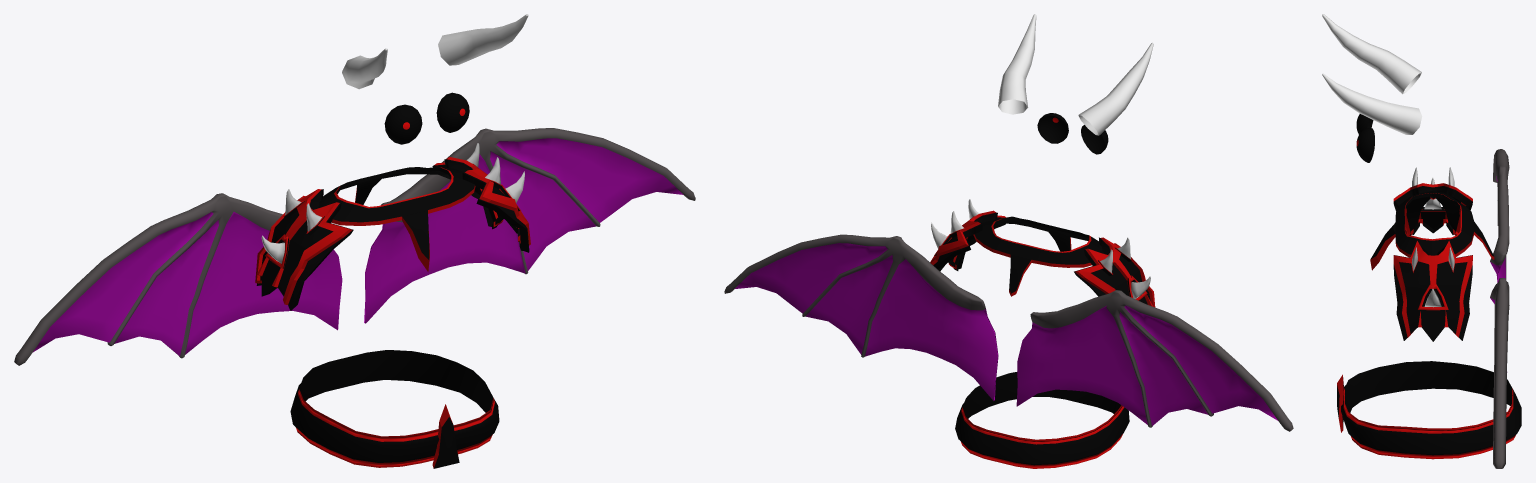
File: devil.fbx
3 views of the same model, side by side, from view 1: azimuth 30°, elevation 25°; view 2: azimuth 150°, elevation 25°; view 3: azimuth 270°, elevation 25° (orthographic). The views are drawn at different scales.
Parts seen in each view (by area): view 1: devil_kanat, kemer, polySurface33, govde, ilk_boynuz, polySurface29, gozz, goz, kemer_parca; view 2: devil_kanat, kemer, ilk_boynuz, govde, polySurface33, polySurface29, goz; view 3: kemer, polySurface29, devil_kanat, ilk_boynuz, polySurface33, govde, goz, kemer_parca, gozz.
Boxes of the visible parts, x1=… form: devil_kanat: x1=14, y1=128, x2=695, y2=365; kemer: x1=290, y1=350, x2=499, y2=467; polySurface33: x1=255, y1=189, x2=353, y2=310; govde: x1=314, y1=167, x2=475, y2=271; ilk_boynuz: x1=342, y1=14, x2=528, y2=89; polySurface29: x1=432, y1=143, x2=530, y2=252; gozz: x1=384, y1=104, x2=422, y2=144; goz: x1=436, y1=92, x2=469, y2=132; kemer_parca: x1=432, y1=404, x2=459, y2=468; devil_kanat: x1=724, y1=234, x2=1293, y2=431; kemer: x1=955, y1=372, x2=1129, y2=468; ilk_boynuz: x1=998, y1=14, x2=1153, y2=135; govde: x1=973, y1=216, x2=1107, y2=296; polySurface33: x1=1074, y1=237, x2=1155, y2=307; polySurface29: x1=930, y1=199, x2=1005, y2=271; goz: x1=1037, y1=113, x2=1068, y2=143; kemer: x1=1341, y1=361, x2=1521, y2=459; polySurface29: x1=1393, y1=239, x2=1472, y2=341; devil_kanat: x1=1490, y1=149, x2=1509, y2=468; ilk_boynuz: x1=1322, y1=14, x2=1422, y2=134; polySurface33: x1=1393, y1=167, x2=1472, y2=235; govde: x1=1370, y1=191, x2=1494, y2=270; goz: x1=1356, y1=128, x2=1374, y2=162; kemer_parca: x1=1337, y1=374, x2=1343, y2=432; gozz: x1=1356, y1=114, x2=1373, y2=134.
Bounding box in the file's own units: 330 × 205 × 96.82.
